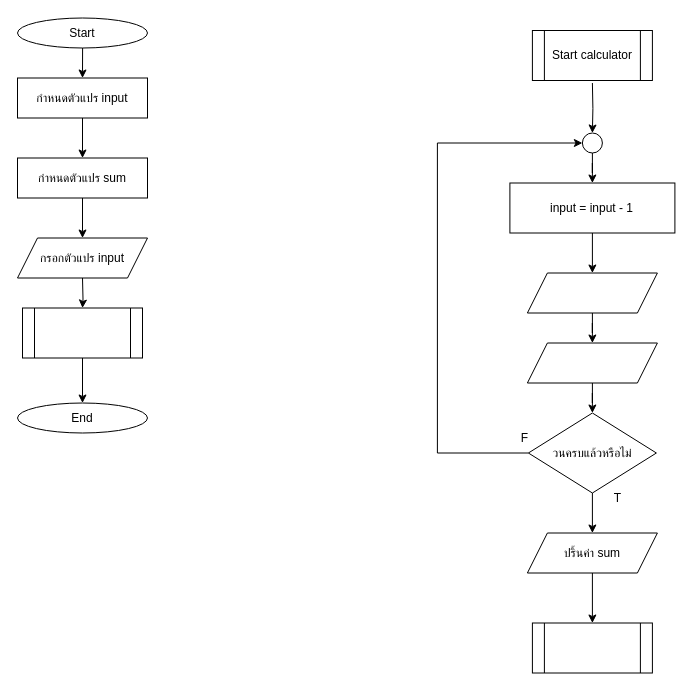
This 693x690 diagram has some shape labels left out. Here are the shapes that lost their labels. From the top down, the centre of each, then its label:
At point (591, 292): "ปริ้นค่า input".
At point (82, 332): "calculator".
At point (591, 362): "sum += input".
At point (591, 647): "END calculator".
